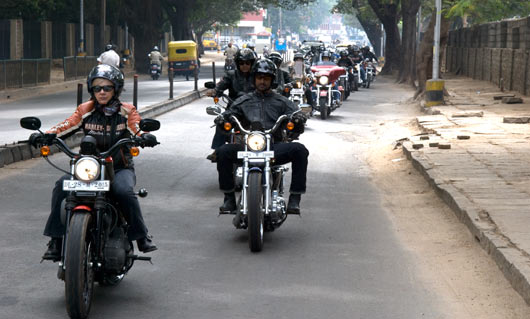helmet: (79, 62, 127, 102), (248, 57, 280, 89)
